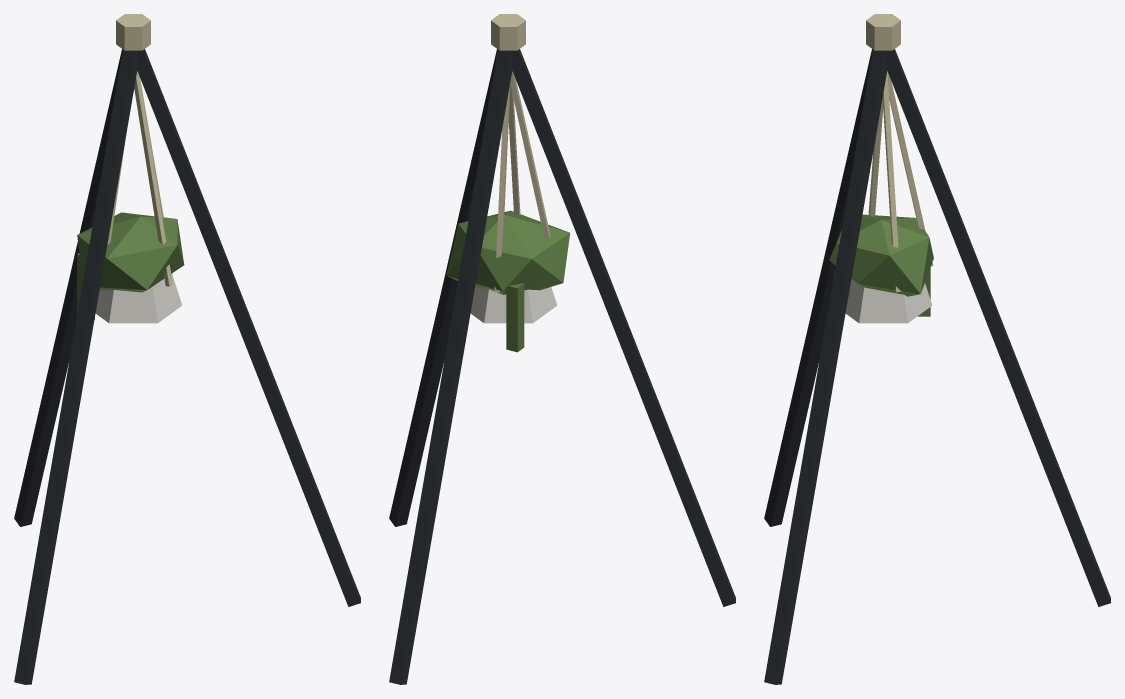
File: plant-hanger-29.glb
3 views of the same model, side by side, from view 1: azimuth 30°, elevation 25°; view 2: azimuth 150°, elevation 25°; view 3: azimuth 270°, elevation 25° (orthographic).
Parts seen in each view (by area): view 1: plant_hanger_29; view 2: plant_hanger_29; view 3: plant_hanger_29.
Boxes of the visible parts, box(x1,y1,x2,y2) form: plant_hanger_29: box(14, 14, 360, 684); plant_hanger_29: box(389, 14, 735, 684); plant_hanger_29: box(764, 14, 1110, 684).
Bounding box in the file's own units: 0.9111 × 1.47 × 0.789.
